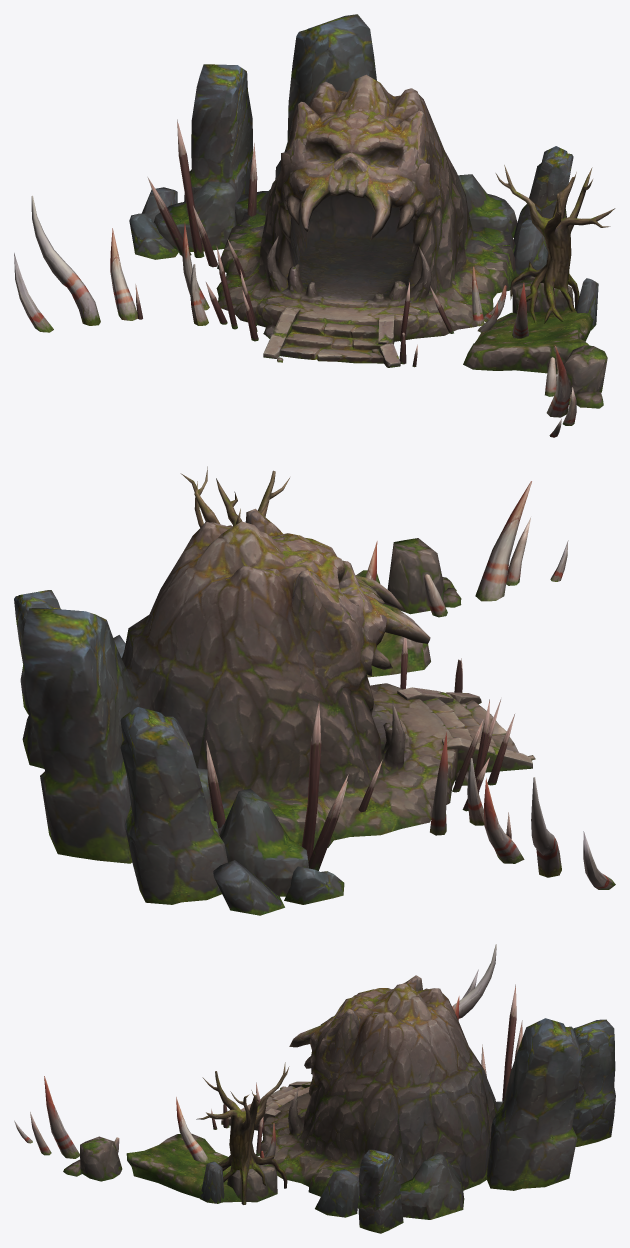
File: area_10_1.FBX
3 renders of one model, top to bottom at view 1: azimuth 30°, elevation 25°; view 2: azimuth 150°, elevation 25°; view 3: azimuth 270°, elevation 25°, orthographic. The views are drawn at different scales.
Visible parts, largest first — view 1: area_10_1; view 2: area_10_1; view 3: area_10_1.
Part boxes in pixels (x1,y1,x2,y2): area_10_1: (14,14,615,437); area_10_1: (14,466,615,915); area_10_1: (14,944,615,1233).
Bounding box in the file's own units: 35.2 × 13.44 × 42.05.
